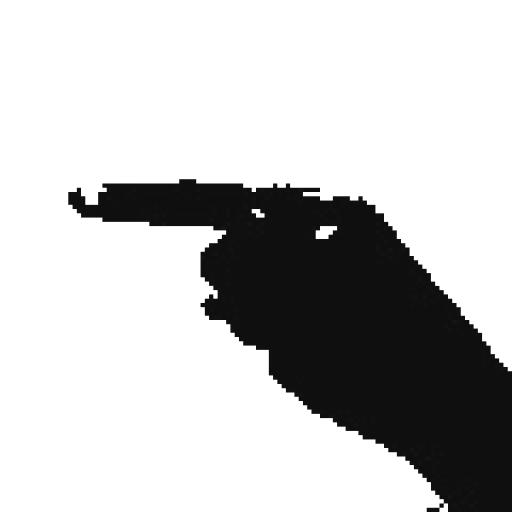index_right: (67, 177, 512, 397)
